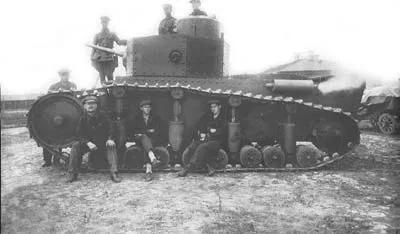MIL_IFV: (22, 15, 363, 174)
